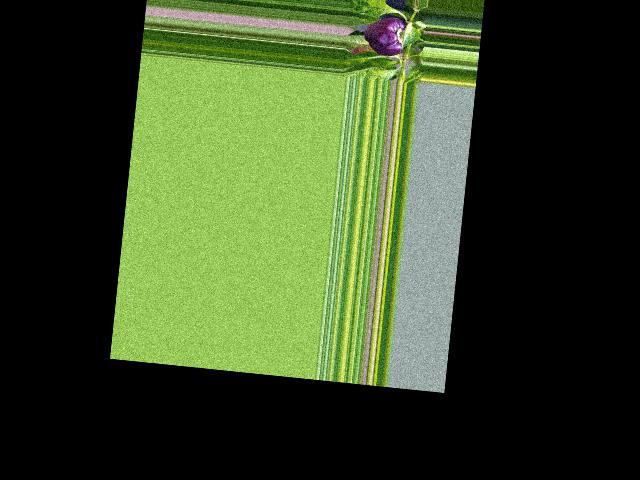bell_pepper: (360, 14, 410, 59)
